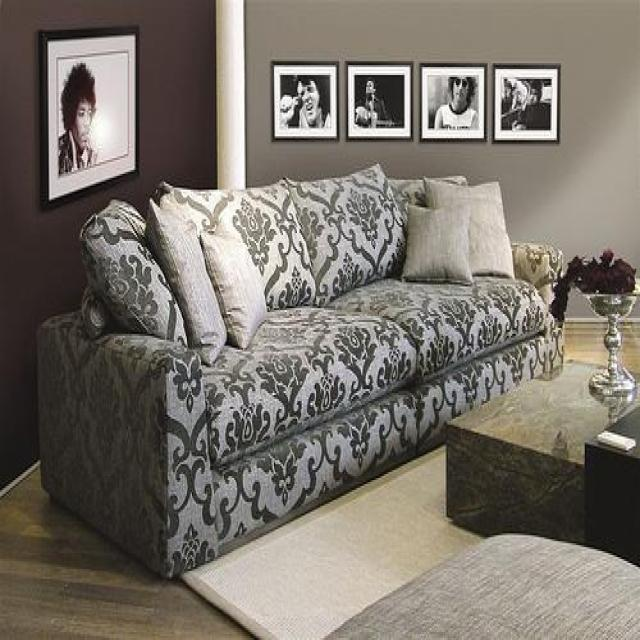sofa: (37, 162, 566, 587)
